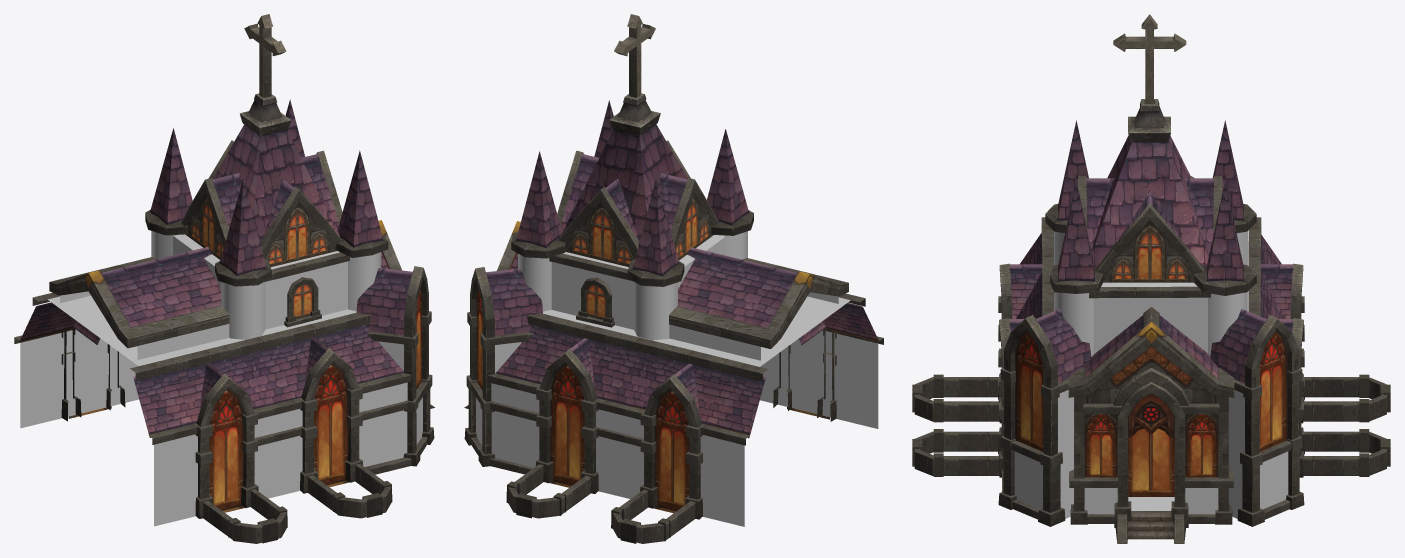
The model's file is building_city_dajiaotang.FBX.
3 renders of one model, left to right at view 1: azimuth 30°, elevation 25°; view 2: azimuth 150°, elevation 25°; view 3: azimuth 270°, elevation 25°, orthographic. The views are drawn at different scales.
Parts seen in each view (by area): view 1: building_city_dajiaotang; view 2: building_city_dajiaotang; view 3: building_city_dajiaotang.
Part boxes in pixels (x1=…): building_city_dajiaotang: x1=14, y1=14, x2=434, y2=543; building_city_dajiaotang: x1=464, y1=14, x2=883, y2=543; building_city_dajiaotang: x1=912, y1=14, x2=1390, y2=543.
Bounding box in the file's own units: 29.45 × 34.01 × 35.4.
